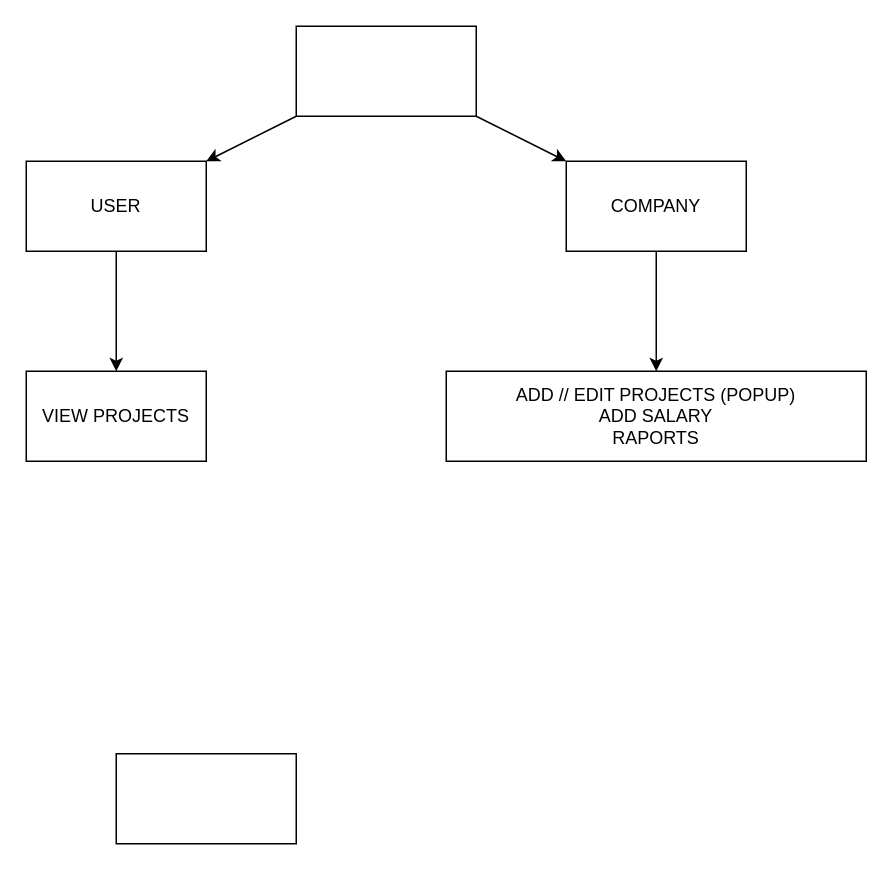
Some shapes in this 893 by 870 pixel diagram are drawn without their labels. Here are the shapes that lost their labels. From the top down, the centre of each, then its label:
[385,70]: login / signup
[205,798]: login
